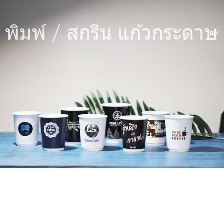paper_cup: (98, 100, 134, 146), (74, 110, 110, 153), (56, 103, 91, 147), (161, 111, 195, 154), (117, 112, 150, 155), (36, 110, 69, 153), (9, 108, 42, 148), (140, 106, 171, 148)
